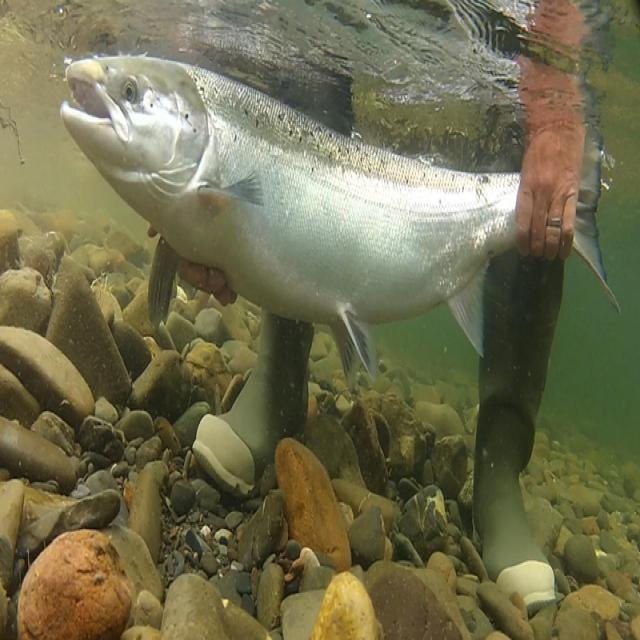grouper: (59, 45, 626, 420)
